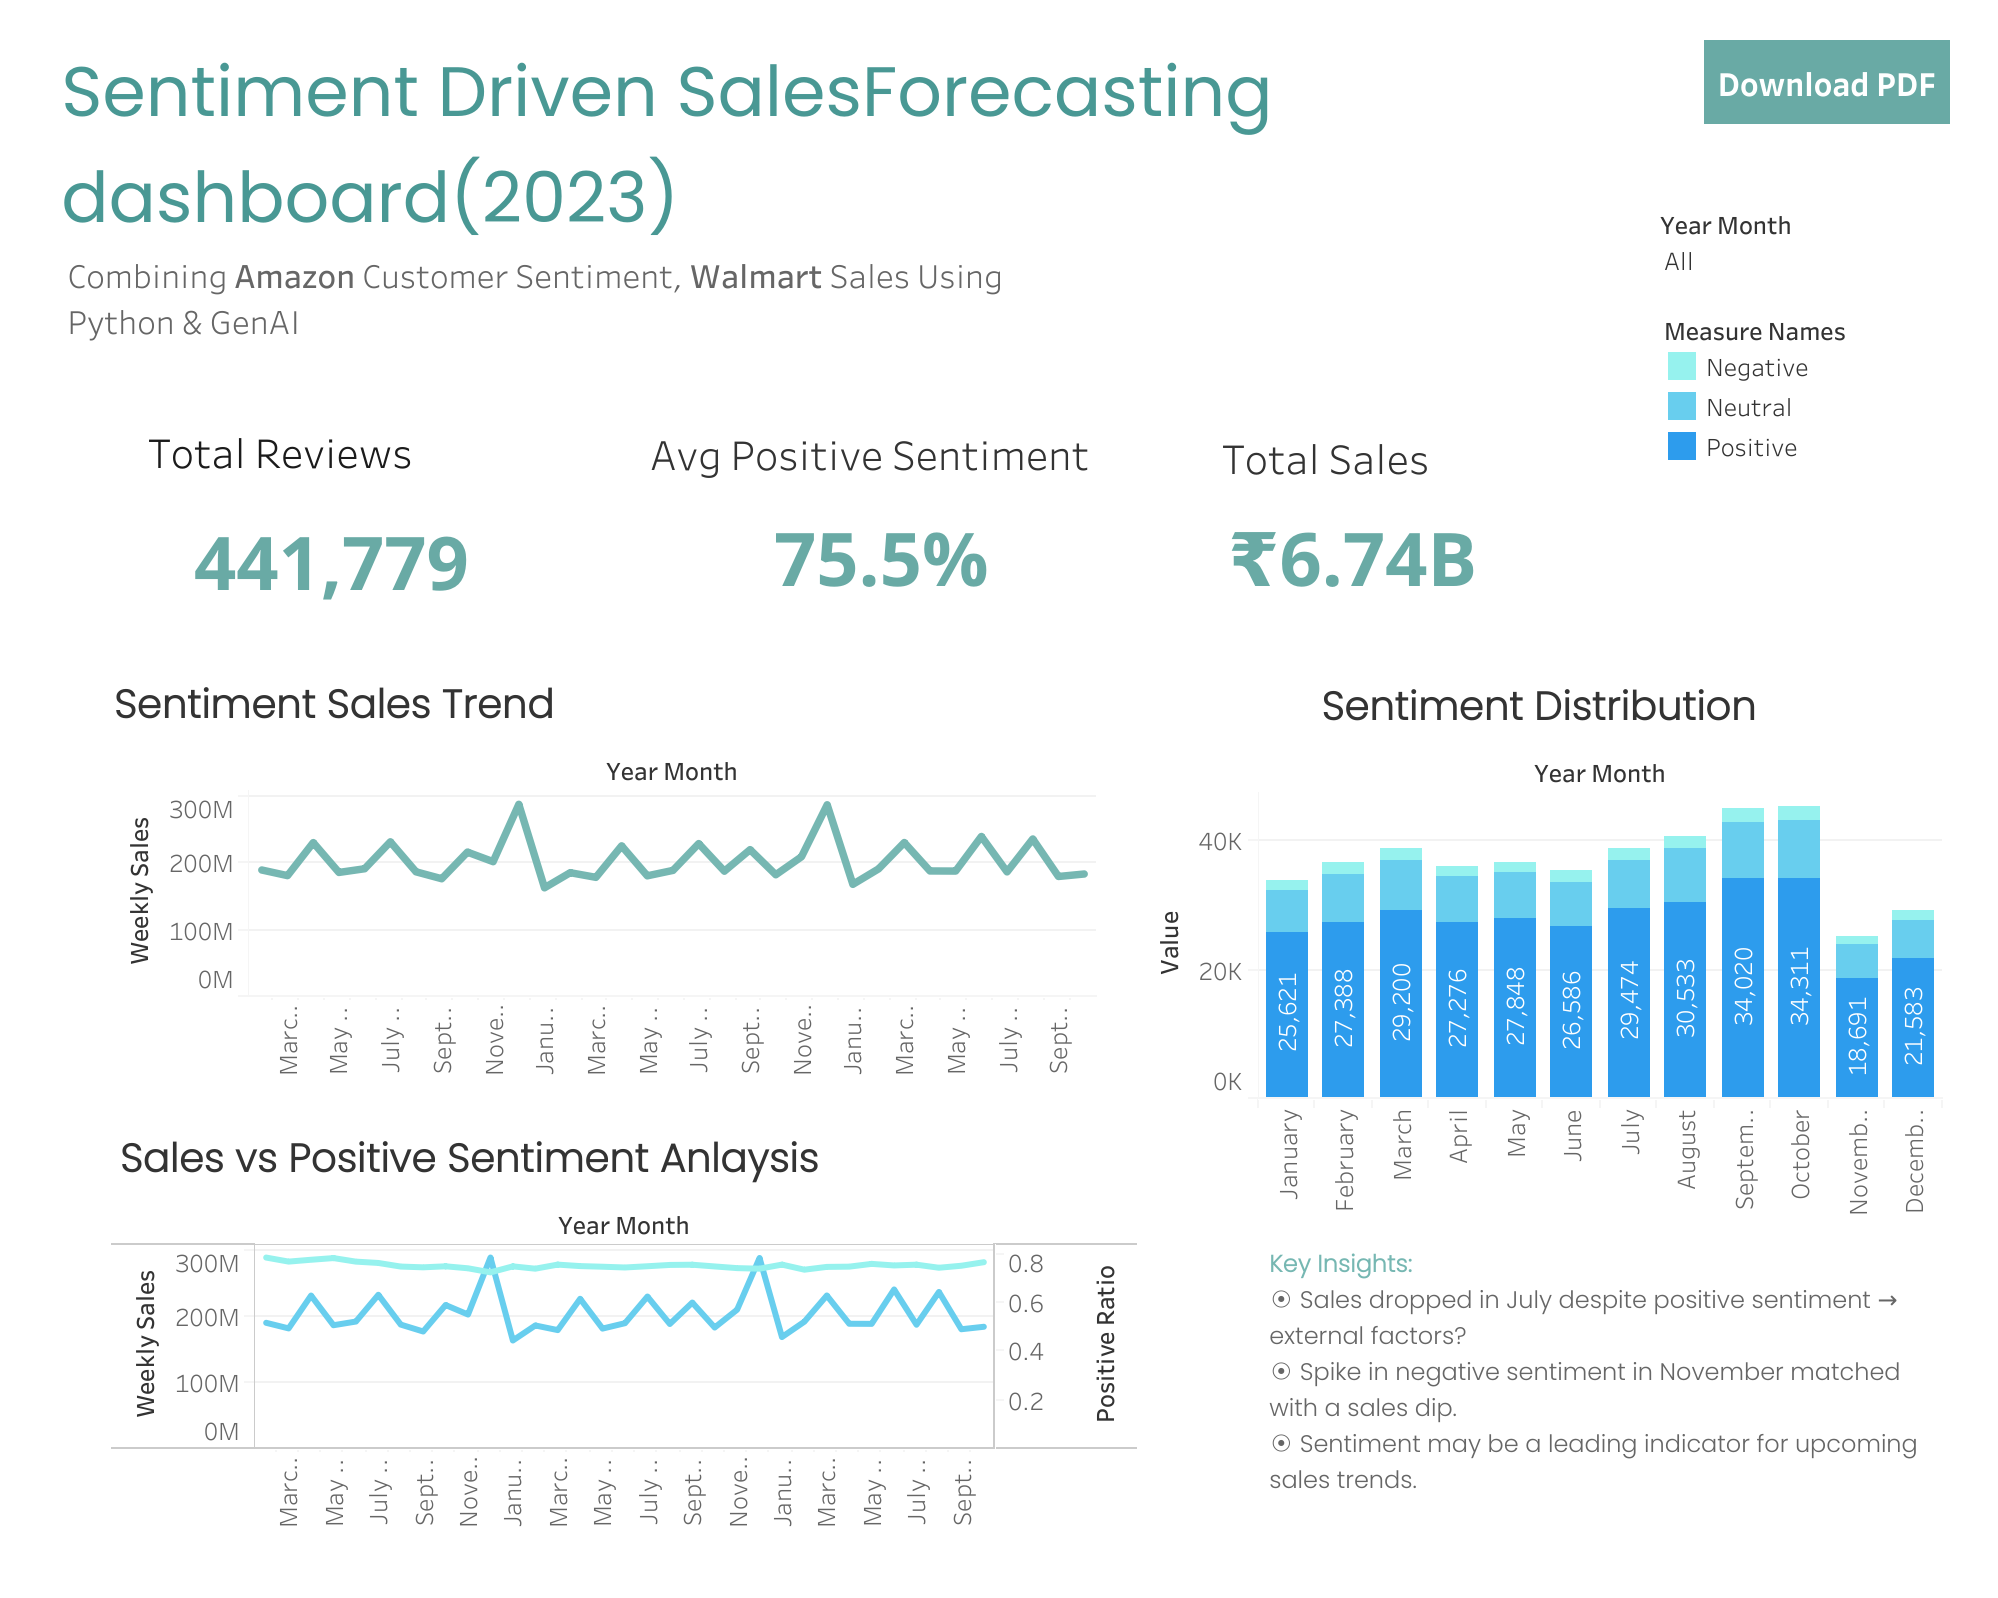

The page's visual inventory and layout, read from the dashboard file:
{"tool":"tableau","page":{"name":"Dashboard 1","canvas":[1000,800],"ordinal":0},"visuals":[{"type":"title","box":[28,17,616,111]},{"type":"dashboard-object","box":[852,20,123,42]},{"type":"filter","title":"Sheet 1","param":"[federated.0jz2o6o0w0vyh413vvsp317zhb0y].[my:YearMonth:ok]","box":[830,102,118,46]},{"type":"text","box":[31,110,499,77]},{"type":"legend","title":"Sheet 2","param":"[federated.0jz2o6o0w0vyh413vvsp317zhb0y].[:Measure Names]","box":[831,154,102,79]},{"type":"worksheet","title":"Sheet 4","mark":"Automatic","box":[70,206,169,106]},{"type":"worksheet","title":"Sheet 5","mark":"Automatic","box":[321,207,240,101]},{"type":"worksheet","title":"Sheet 6","mark":"Automatic","box":[607,209,139,97]},{"type":"worksheet","title":"Sheet 1","mark":"Line","rows":["Weekly_Sales"],"cols":["YearMonth"],"box":[53,332,495,207]},{"type":"worksheet","title":"Sheet 2","mark":"Bar","cols":["YearMonth"],"box":[568,333,403,276]},{"type":"worksheet","title":"Sheet 3","mark":"Automatic","rows":["Weekly_Sales","Positive_Ratio"],"cols":["YearMonth"],"box":[56,559,513,207]},{"type":"text","box":[632,623,333,126]}]}

Visuals, with their boxes in screenshot pixels (x1, y1, x2, y2), scaled from the page's 1000x800 canvas onto the 1998x1598 screenshot:
title: {"x1": 56, "y1": 34, "x2": 1287, "y2": 256}
dashboard-object: {"x1": 1702, "y1": 40, "x2": 1948, "y2": 124}
"Sheet 1" filter: {"x1": 1658, "y1": 204, "x2": 1894, "y2": 296}
text: {"x1": 62, "y1": 220, "x2": 1059, "y2": 374}
"Sheet 2" legend: {"x1": 1660, "y1": 308, "x2": 1864, "y2": 465}
"Sheet 4" worksheet: {"x1": 140, "y1": 411, "x2": 478, "y2": 623}
"Sheet 5" worksheet: {"x1": 641, "y1": 413, "x2": 1121, "y2": 615}
"Sheet 6" worksheet: {"x1": 1213, "y1": 417, "x2": 1491, "y2": 611}
"Sheet 1" worksheet (Line marks): {"x1": 106, "y1": 663, "x2": 1095, "y2": 1077}
"Sheet 2" worksheet (Bar marks): {"x1": 1135, "y1": 665, "x2": 1940, "y2": 1216}
"Sheet 3" worksheet: {"x1": 112, "y1": 1117, "x2": 1137, "y2": 1530}
text: {"x1": 1263, "y1": 1244, "x2": 1928, "y2": 1496}
